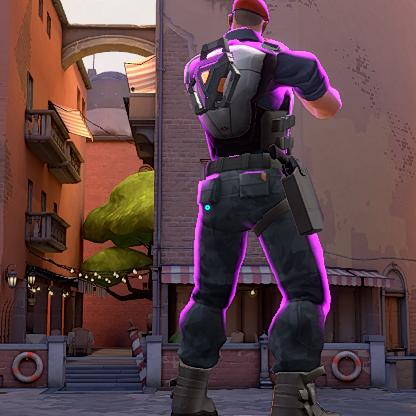enemyBody: (215, 57, 297, 161)
enemyHead: (226, 6, 269, 44)
